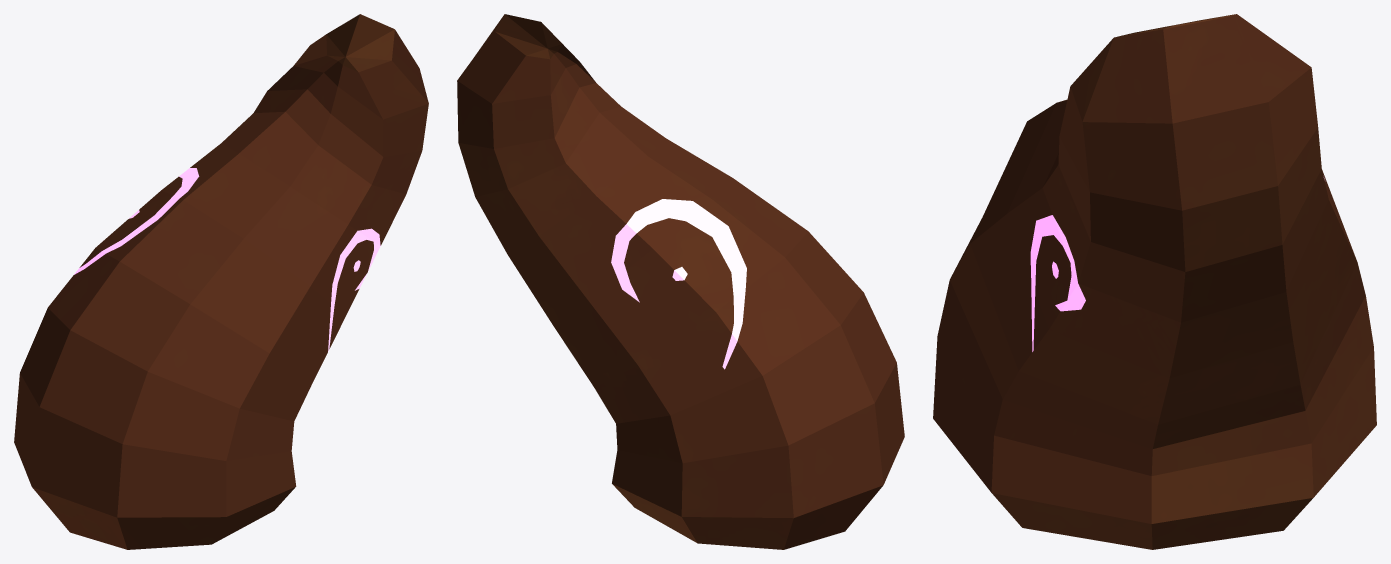
File: SapplingCherryBlossom.fbx
3 views of the same model, side by side, from view 1: azimuth 30°, elevation 25°; view 2: azimuth 150°, elevation 25°; view 3: azimuth 270°, elevation 25° (orthographic). The views are drawn at different scales.
Visible parts, largest first — view 1: Tree; view 2: Tree; view 3: Tree.
Boxes of the visible parts, x1=… form: Tree: x1=14, y1=14, x2=428, y2=549; Tree: x1=457, y1=14, x2=904, y2=549; Tree: x1=933, y1=14, x2=1376, y2=549.
Size of the model in its own units: 118 by 125 by 75.39.
